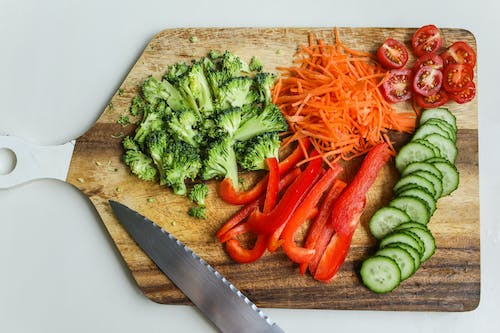knife: (105, 197, 288, 333)
